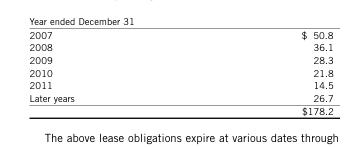table: (28, 28, 332, 115)
table column: (28, 28, 187, 115), (187, 28, 332, 115)
table row: (28, 40, 332, 53), (28, 65, 332, 78), (28, 78, 332, 91), (28, 28, 332, 40), (28, 53, 332, 65), (28, 91, 332, 103), (28, 103, 332, 115)
